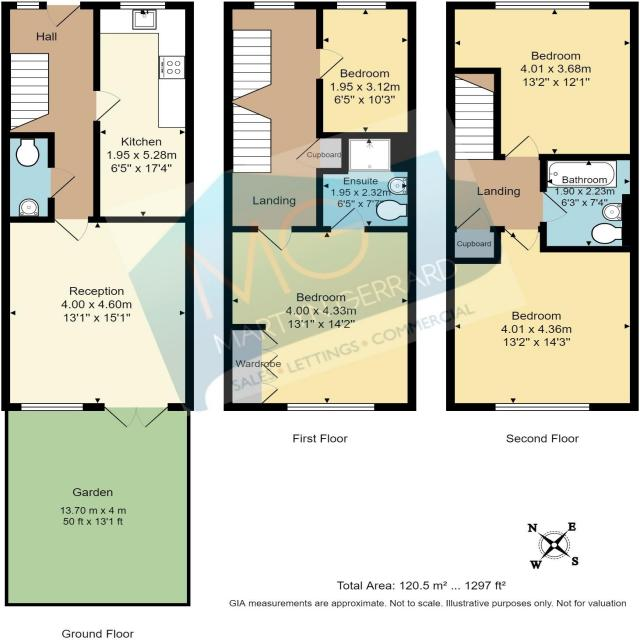DOOR: (103, 403, 169, 429), (539, 189, 570, 224), (315, 47, 347, 80), (328, 206, 366, 233), (93, 89, 124, 122), (48, 166, 78, 199), (256, 226, 293, 252), (504, 134, 541, 160), (504, 227, 539, 252), (54, 218, 90, 242)
ROOM: (1, 216, 194, 429), (223, 206, 416, 412), (445, 226, 639, 411), (446, 0, 639, 160), (92, 1, 195, 223), (316, 1, 417, 138)
WINDOW: (493, 0, 591, 10), (285, 402, 376, 412), (494, 402, 591, 411), (18, 403, 84, 412), (335, 0, 387, 10), (253, 0, 296, 10), (120, 0, 166, 9), (15, 0, 41, 10)
